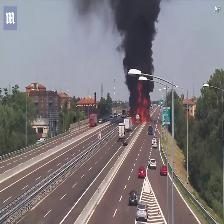fire: (130, 80, 153, 126)
